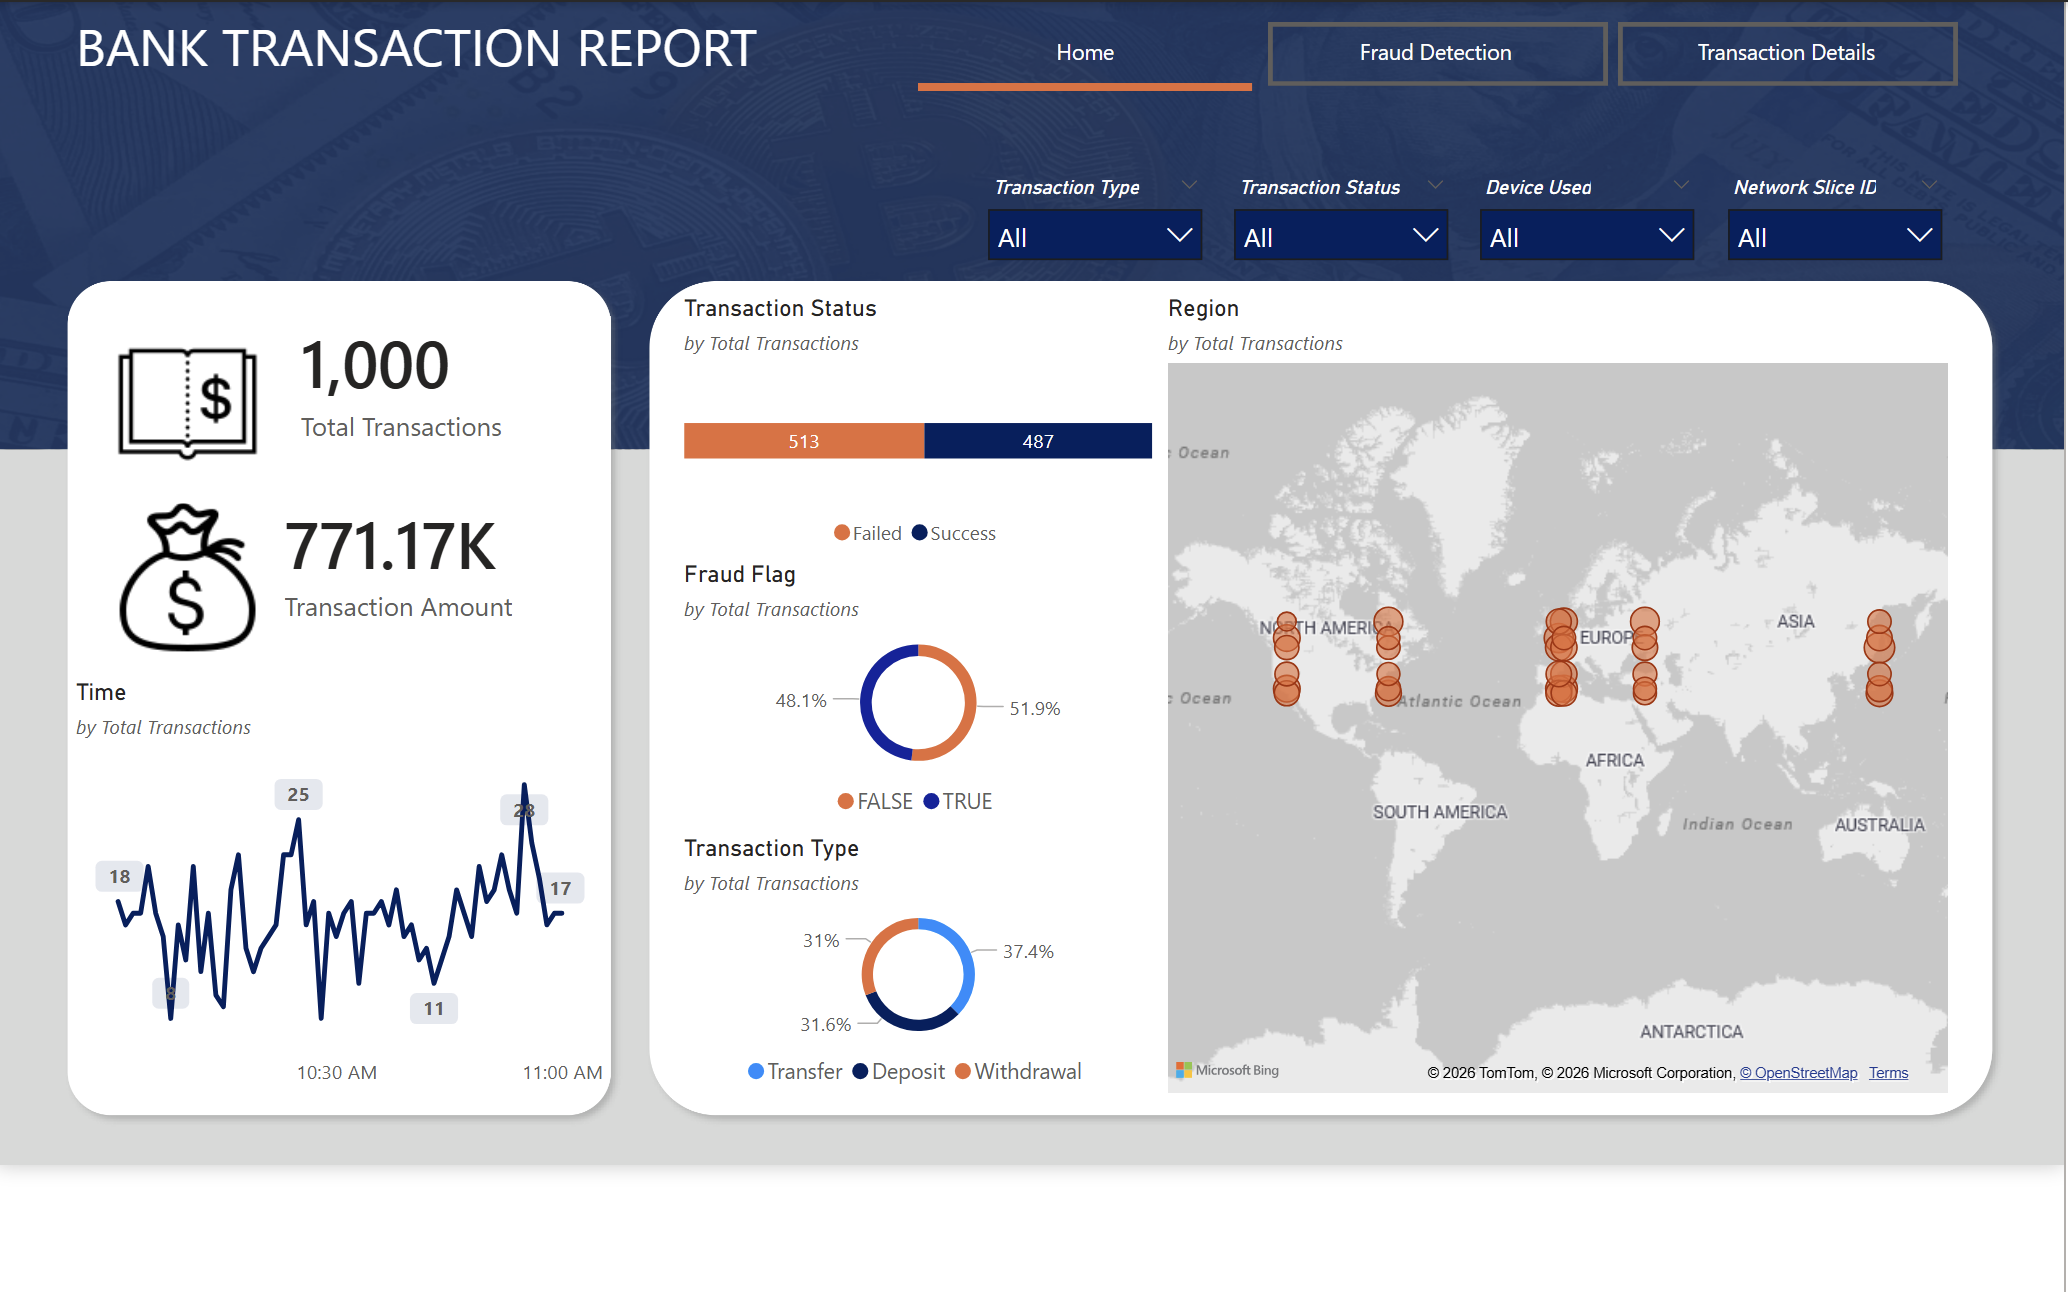

Layout of this report page (visuals, bound fields, positions):
{"tool":"powerbi","page":{"name":"Home","canvas":[1280,720],"ordinal":0},"visuals":[{"type":"cardVisual","fields":{"Data":["bank transaction_data.Total Transactions"]},"box":[44.7,194.7,336.8,103.9],"z":0},{"type":"cardVisual","fields":{"Data":["bank transaction_data.Total Transaction Amount"]},"box":[44.7,298.6,336.8,119.7],"z":1000},{"type":"lineChart","title":"Time","fields":{"Y":["bank transaction_data.Total Transactions"],"Category":["bank transaction_data.Time"]},"box":[44.7,418.3,336.8,263.1],"z":2000},{"type":"barChart","title":"Transaction Status","fields":{"Series":["bank transaction_data.Transaction Status"],"Y":["bank transaction_data.Total Transactions"]},"box":[421,180.2,299.9,165.8],"z":3000},{"type":"donutChart","title":"Fraud Flag","fields":{"Y":["bank transaction_data.Total Transactions"],"Category":["bank transaction_data.Fraud Flag"]},"box":[421,346,299.9,168.4],"z":4000},{"type":"donutChart","title":"Transaction Type","fields":{"Y":["bank transaction_data.Total Transactions"],"Category":["bank transaction_data.Transaction Type"]},"box":[421,514.4,299.9,165.8],"z":5000},{"type":"map","title":"Region","fields":{"Size":["bank transaction_data.Total Transactions"],"Y":["bank transaction_data.Latitude Value"],"X":["bank transaction_data.Longitude Value"]},"box":[720.9,180.2,493.3,499.9],"z":6000},{"type":"slicer","fields":{"Values":["bank transaction_data.Network Slice ID"]},"box":[1061.6,102.6,152.6,60.5],"z":7000},{"type":"slicer","fields":{"Values":["bank transaction_data.Transaction Type"]},"box":[603.8,102.6,152.6,60.5],"z":8000},{"type":"slicer","fields":{"Values":["bank transaction_data.Transaction Status"]},"box":[756.4,102.6,152.6,60.5],"z":9000},{"type":"slicer","fields":{"Values":["bank transaction_data.Device Used"]},"box":[909,102.6,152.6,60.5],"z":10000},{"type":"textbox","box":[44.7,0,471,56.6],"z":11000},{"type":"pageNavigator","box":[570.9,6.6,643.3,50],"z":12000},{"type":"actionButton","box":[787.3,12.4,210.4,39.6],"z":13000},{"type":"actionButton","box":[1003.9,12.4,210.4,39.6],"z":14000}]}

Visuals, with their boxes on the page's 1280x720 design canvas (x1, y1, x2, y2). These are canvas units, not pixel positions in the 2068x1292 screenshot, which may show the page scaled, cropped or inside an application window:
cardVisual - bank transaction_data.Total Transactions: bbox=[45, 195, 382, 299]
cardVisual - bank transaction_data.Total Transaction Amount: bbox=[45, 299, 382, 418]
"Time" lineChart: bbox=[45, 418, 382, 681]
"Transaction Status" barChart: bbox=[421, 180, 721, 346]
"Fraud Flag" donutChart: bbox=[421, 346, 721, 514]
"Transaction Type" donutChart: bbox=[421, 514, 721, 680]
"Region" map: bbox=[721, 180, 1214, 680]
slicer - bank transaction_data.Network Slice ID: bbox=[1062, 103, 1214, 163]
slicer - bank transaction_data.Transaction Type: bbox=[604, 103, 756, 163]
slicer - bank transaction_data.Transaction Status: bbox=[756, 103, 909, 163]
slicer - bank transaction_data.Device Used: bbox=[909, 103, 1062, 163]
textbox: bbox=[45, 0, 516, 57]
pageNavigator: bbox=[571, 7, 1214, 57]
actionButton: bbox=[787, 12, 998, 52]
actionButton: bbox=[1004, 12, 1214, 52]
